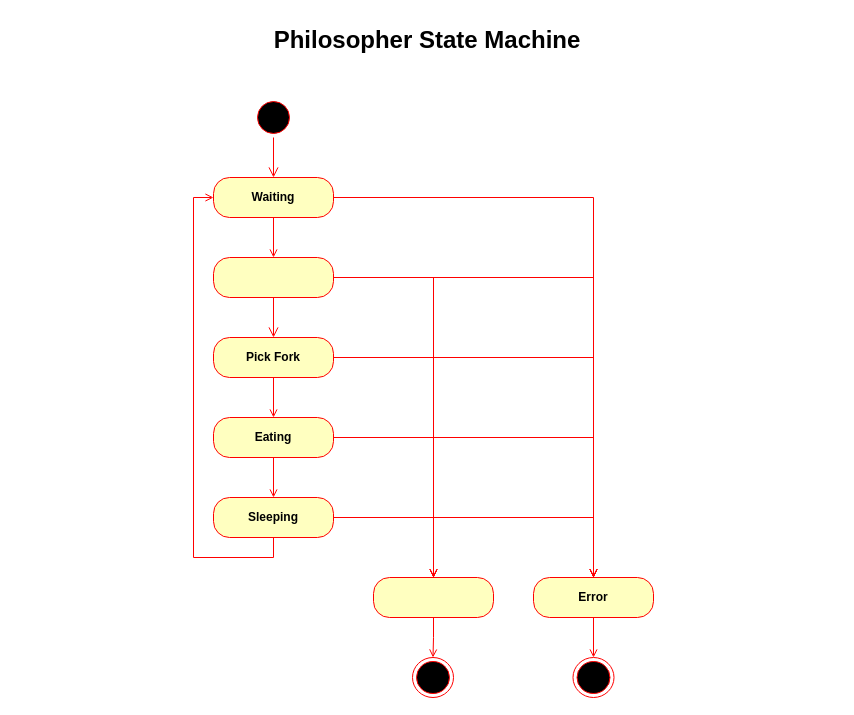
Image size: 854x715. Some labels were removed from this diagram. The centre of each missing label's shape, as x and y in pixels:
Dead: [433,597]
Thinking: [273,277]
